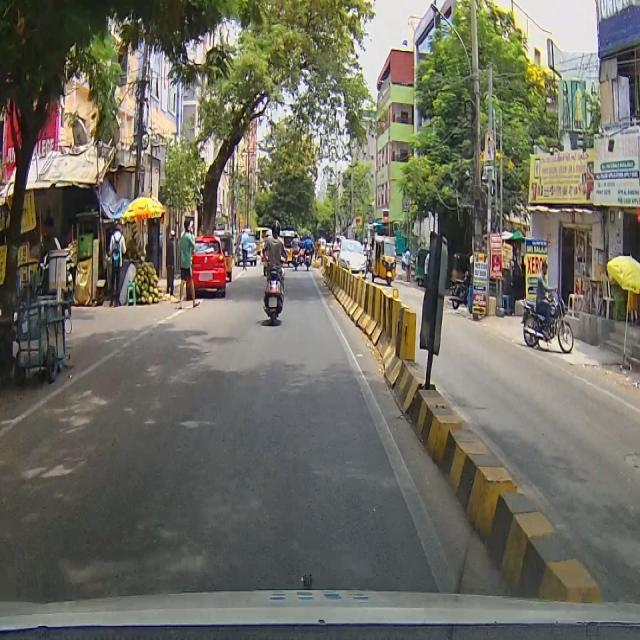motorcycle ahead at: (259, 262, 290, 320)
person ahead at: (174, 218, 203, 314), (101, 217, 127, 307)
